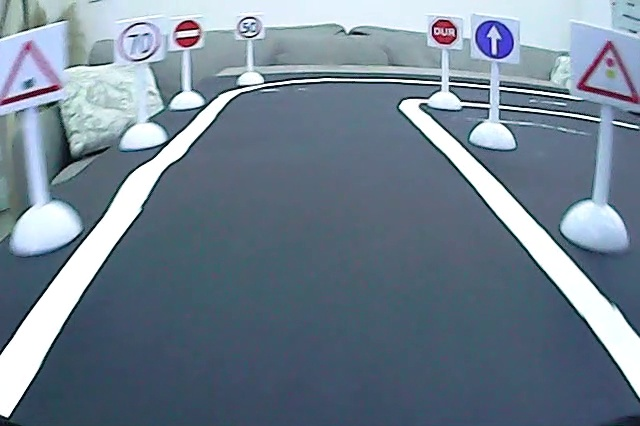do not enter: (173, 16, 203, 50)
green light: (1, 36, 65, 109)
red light: (573, 34, 640, 110)
speed limit 50: (235, 14, 265, 42)
speed limit 70: (114, 19, 163, 64)
stop sign: (427, 16, 460, 47)
